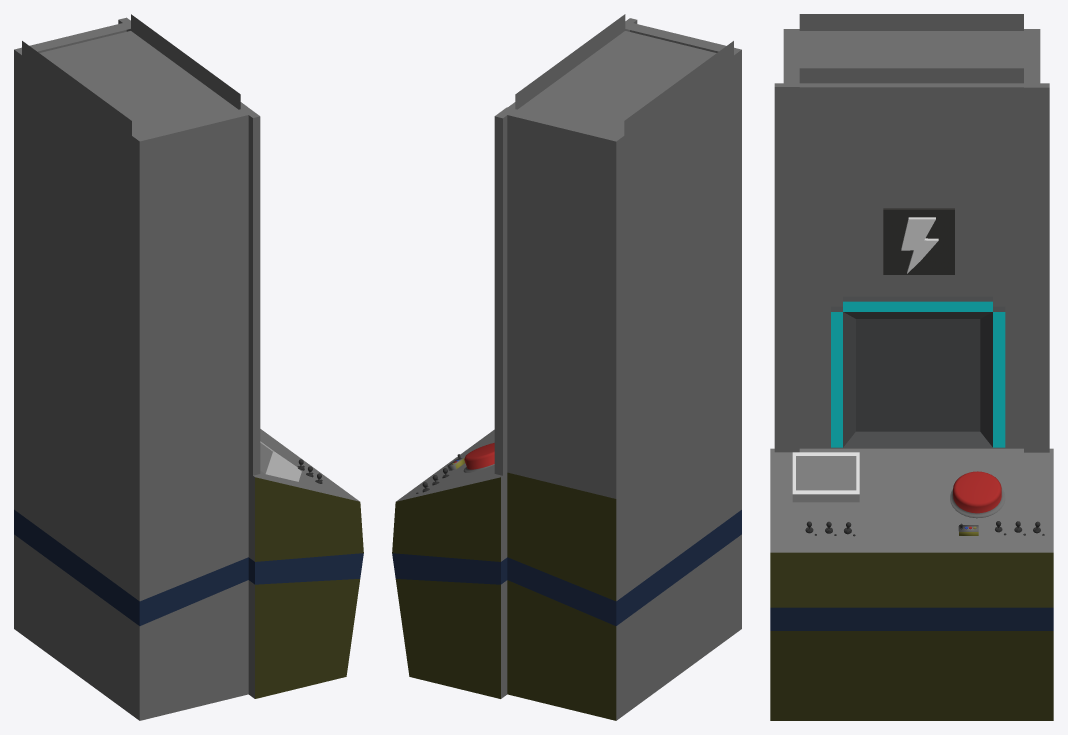
File: MaquinariaSecindaria.fbx
3 renders of one model, left to right at view 1: azimuth 30°, elevation 25°; view 2: azimuth 150°, elevation 25°; view 3: azimuth 270°, elevation 25°, orthographic. The views are drawn at different scales.
Visible parts, largest first — view 1: MaqunaSecundaria; view 2: MaqunaSecundaria; view 3: MaqunaSecundaria.
Boxes of the visible parts, x1=… form: MaqunaSecundaria: x1=14, y1=14, x2=363, y2=720; MaqunaSecundaria: x1=392, y1=14, x2=741, y2=720; MaqunaSecundaria: x1=770, y1=14, x2=1053, y2=720.
Bounding box in the file's own units: 28.86 × 75.28 × 31.83.
